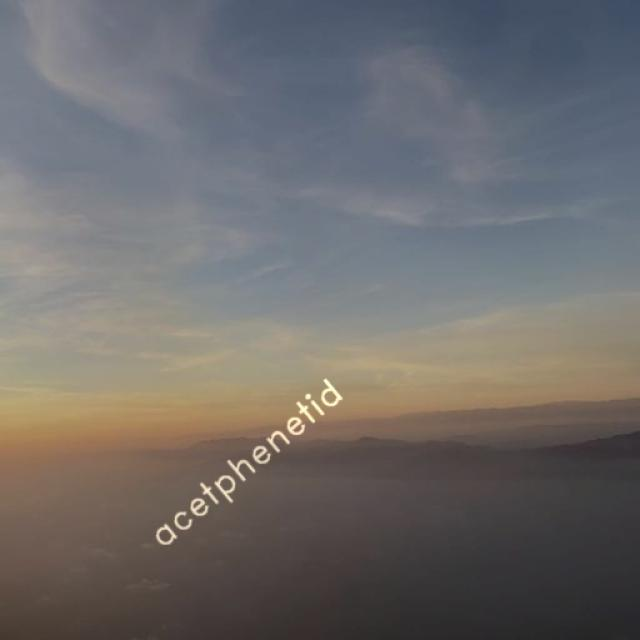watermark: (152, 367, 344, 555)
